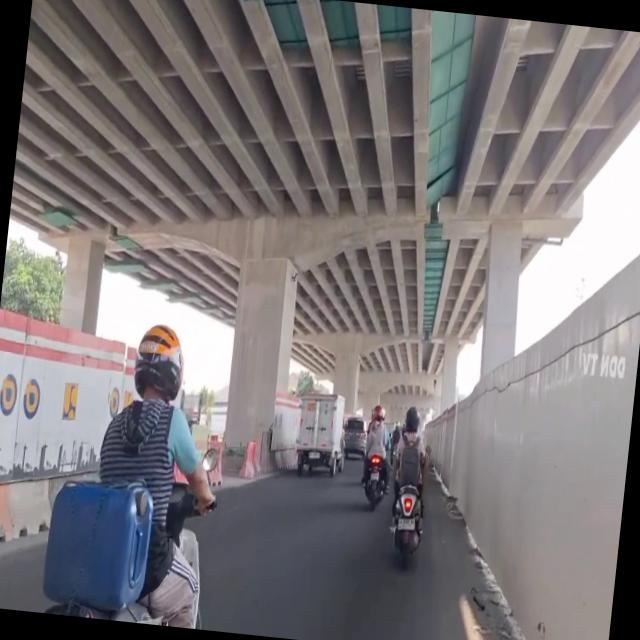WithHelmet: (80, 319, 234, 630), (387, 405, 436, 536), (358, 403, 394, 493)
